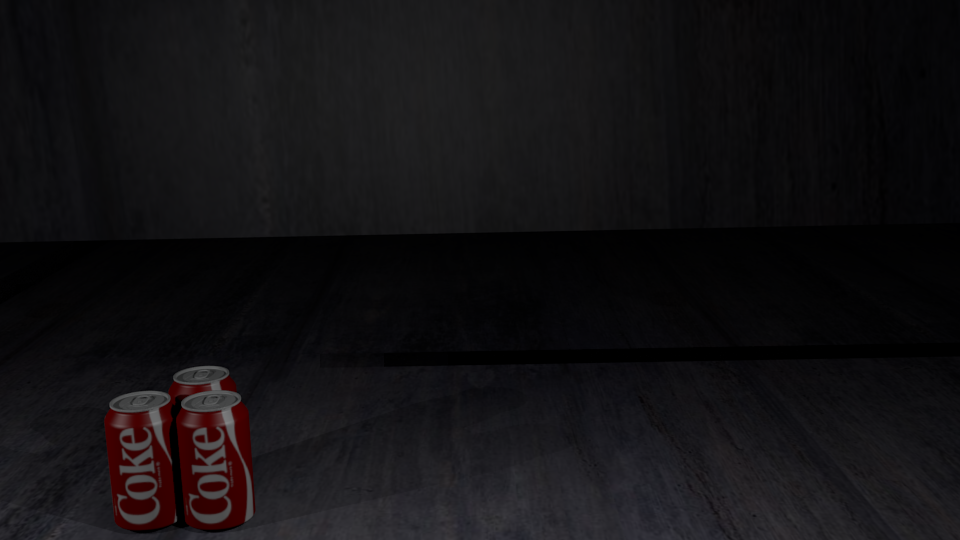cola_can: (104, 391, 180, 526), (176, 391, 251, 525), (169, 366, 235, 493)
